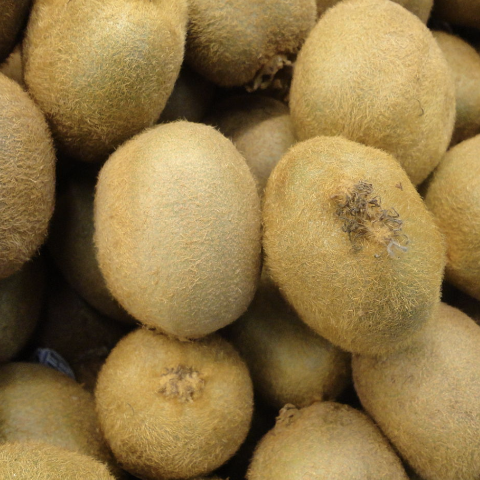kiwi: (74, 119, 283, 358), (250, 123, 450, 368), (283, 0, 462, 186), (89, 309, 256, 479)
